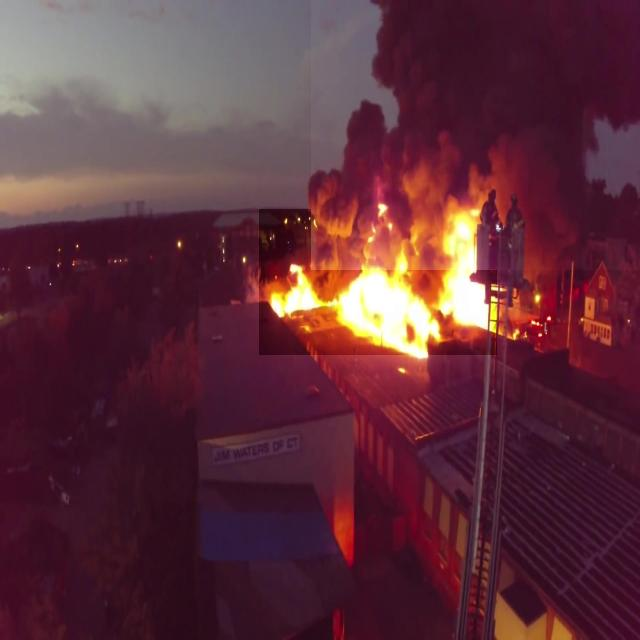Fire: (259, 209, 497, 355)
Smoke: (311, 0, 640, 270)
